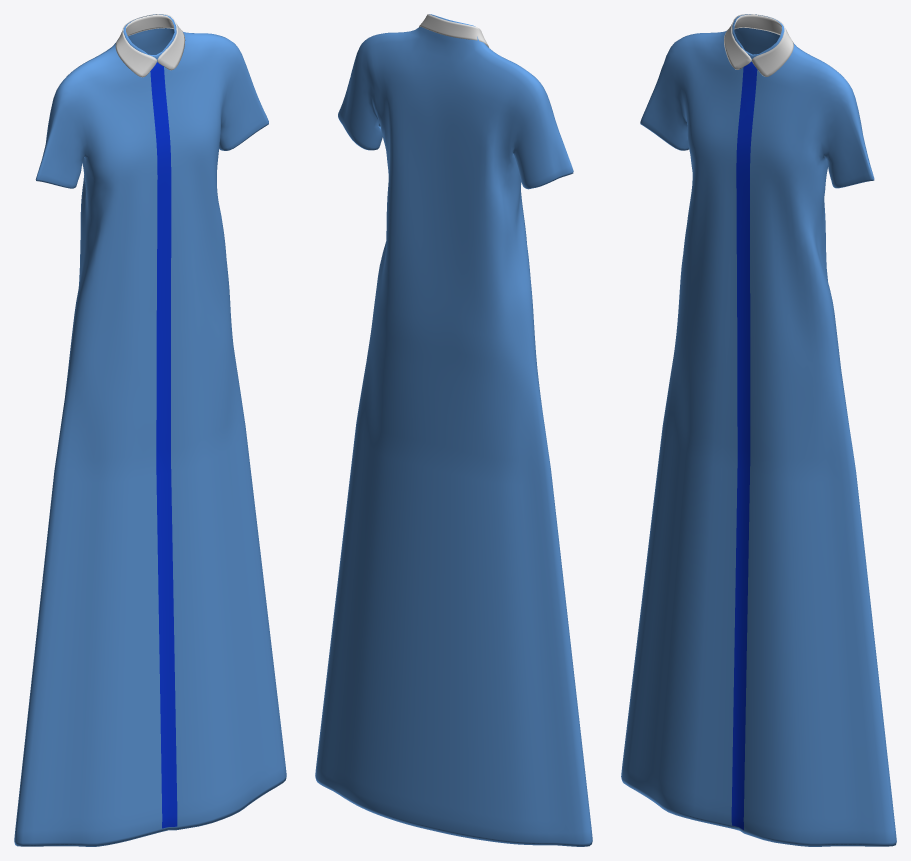
The model's file is Dress.fbx.
3 renders of one model, left to right at view 1: azimuth 30°, elevation 25°; view 2: azimuth 150°, elevation 25°; view 3: azimuth 330°, elevation 25°, orthographic.
Parts seen in each view (by area): view 1: Plane; view 2: Plane; view 3: Plane.
Part boxes in pixels (box(x1,y1,x2,y2)): Plane: box(14, 14, 286, 846); Plane: box(315, 14, 592, 846); Plane: box(621, 14, 896, 846).
Size of the model in its own units: 0.5723 by 1.6 by 0.1632.
